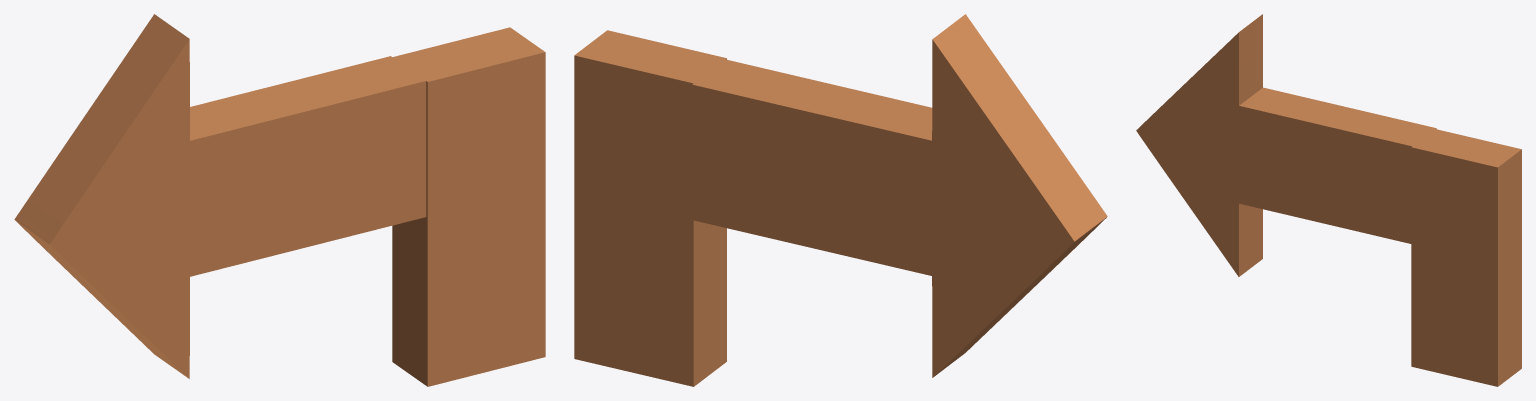
Rendered from 왼쪽방향 화살표.glb.
The picture shows the model from 3 angles, left to right: view 1: azimuth 30°, elevation 25°; view 2: azimuth 150°, elevation 25°; view 3: azimuth 330°, elevation 25°; orthographic projection. The views are drawn at different scales.
Parts seen in each view (by area): view 1: Mesh_Mesh_head_geo.001_lambert2SG.001; view 2: Mesh_Mesh_head_geo.001_lambert2SG.001; view 3: Mesh_Mesh_head_geo.001_lambert2SG.001.
Boxes of the visible parts, x1,y1,x2,y2 form: Mesh_Mesh_head_geo.001_lambert2SG.001: (14, 14, 545, 386); Mesh_Mesh_head_geo.001_lambert2SG.001: (574, 14, 1107, 386); Mesh_Mesh_head_geo.001_lambert2SG.001: (1136, 14, 1521, 386).
Bounding box in the file's own units: 42.05 × 32.69 × 5.56.
